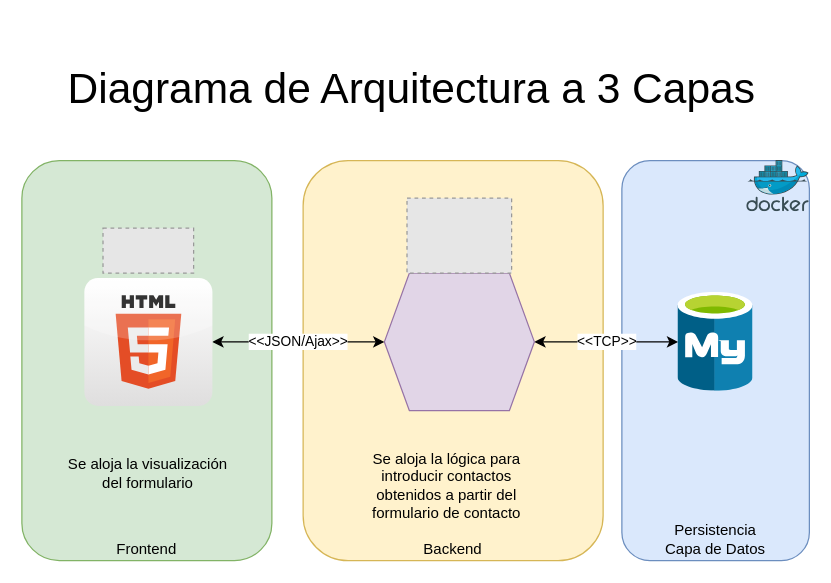
This 831x583 diagram has some shape labels left out. Grey dashed boxes stand in for pictures. Each missing label, with the centre of its shape:
"Laravel API CRUD" goes at point 458,341.
"MySQL" goes at point 715,341.
